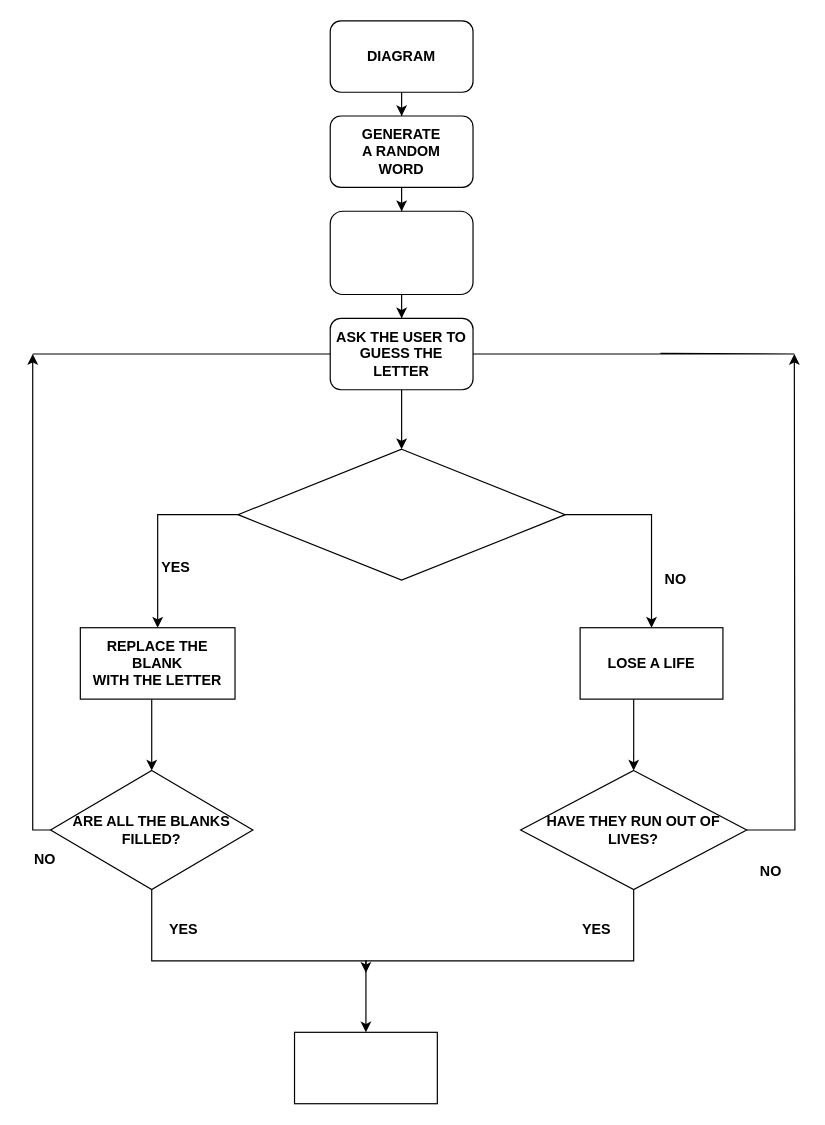
This 825x1125 diagram has some shape labels left out. Each missing label, with the centre of its shape:
"GAME OVER" goes at pixel 365 1067.
"GENRATE AS MANY BLANKS AS THE LETTERS IN THE WORD" goes at pixel 401 252.
"IS THE GUESSED LETTER IN THE WORD?" goes at pixel 401 514.
